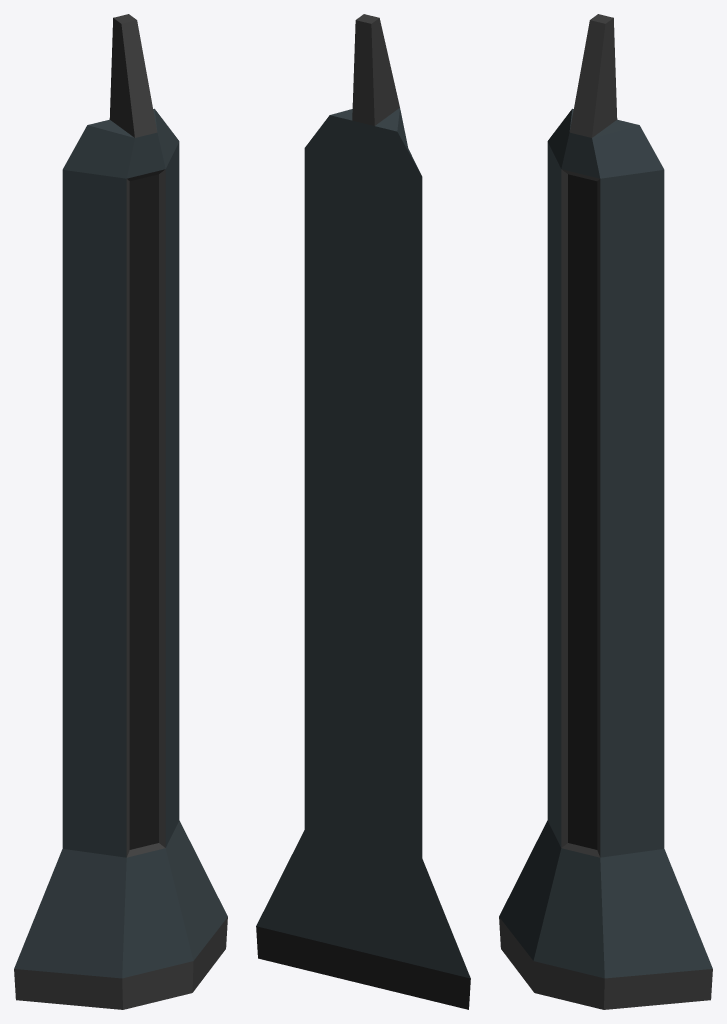
Rendered from WallEdge.fbx.
3 views of the same model, side by side, from view 1: azimuth 30°, elevation 25°; view 2: azimuth 150°, elevation 25°; view 3: azimuth 330°, elevation 25° (orthographic).
Visible parts, largest first — view 1: Cube.001; view 2: Cube.001; view 3: Cube.001.
Boxes of the visible parts, x1=… form: Cube.001: x1=14, y1=14, x2=227, y2=1009; Cube.001: x1=256, y1=14, x2=470, y2=1009; Cube.001: x1=499, y1=14, x2=712, y2=1009.
Size of the model in its own units: 204 by 872 by 60.74.
1 material, 1 textured.
